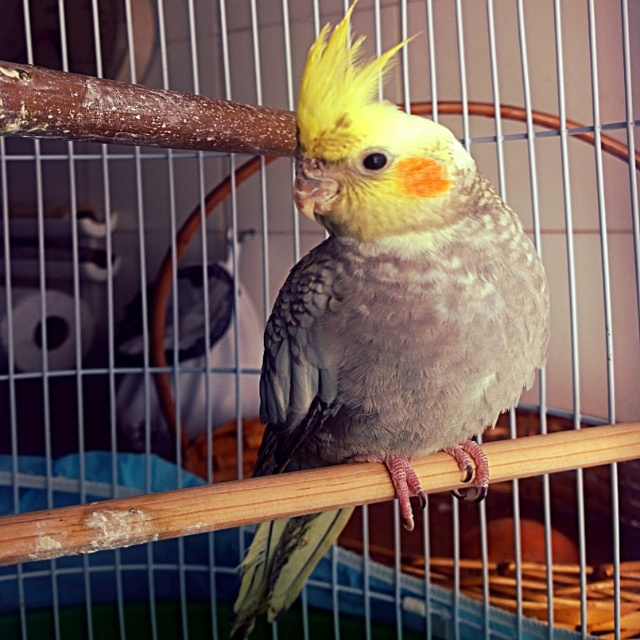Parrot: (229, 0, 551, 640)
